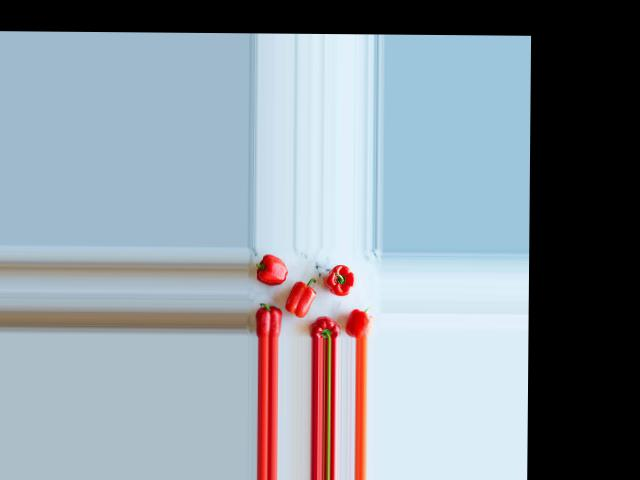bell_pepper: (309, 315, 339, 337)
